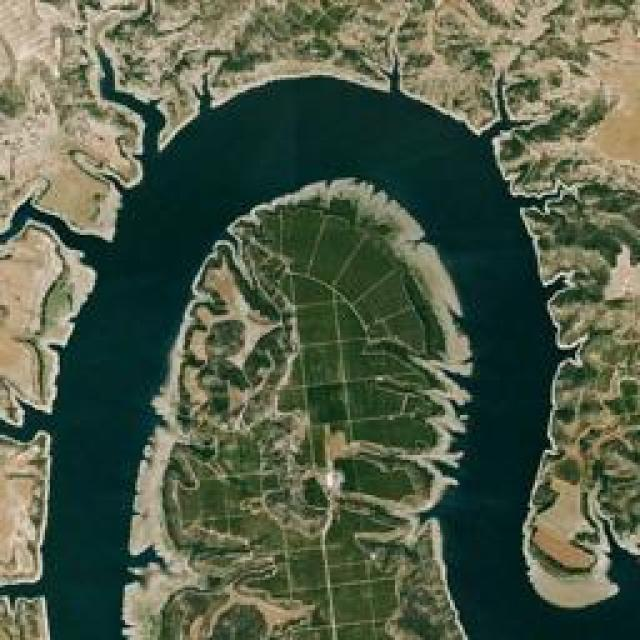River: (0, 68, 638, 638)
